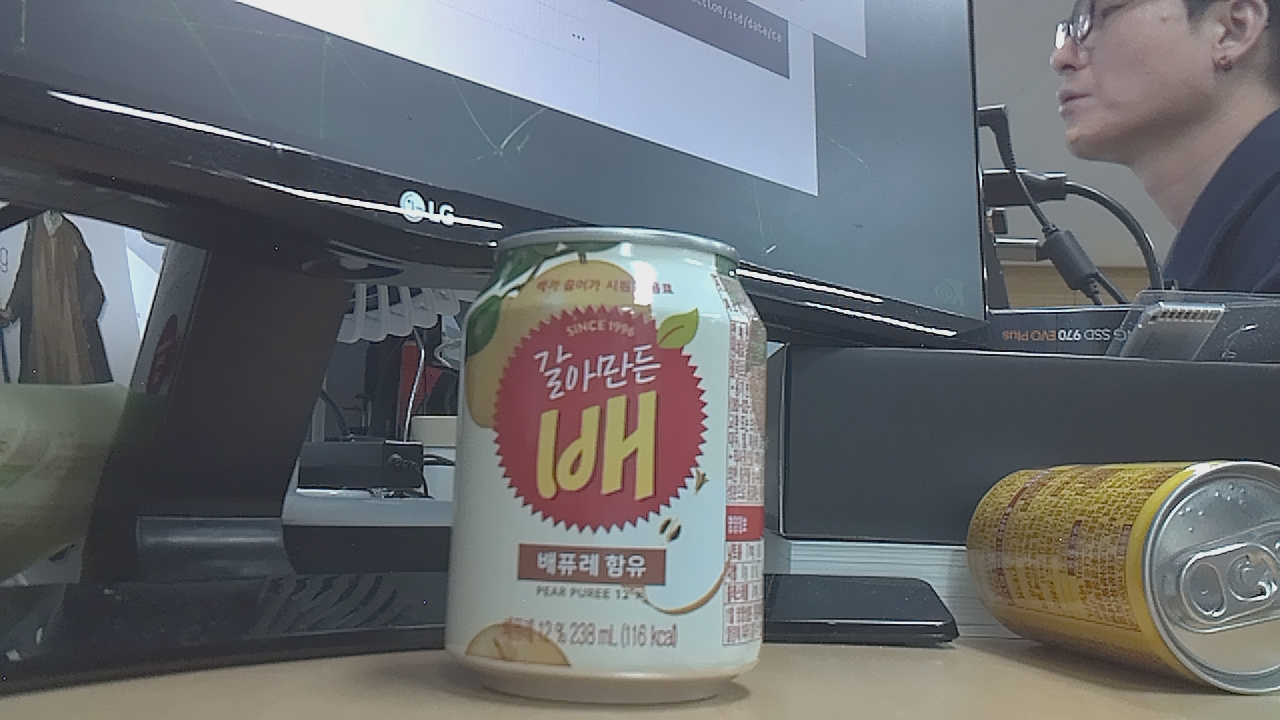IdH (pear juice): (438, 196, 783, 720)
jetty: (964, 424, 1280, 697)
